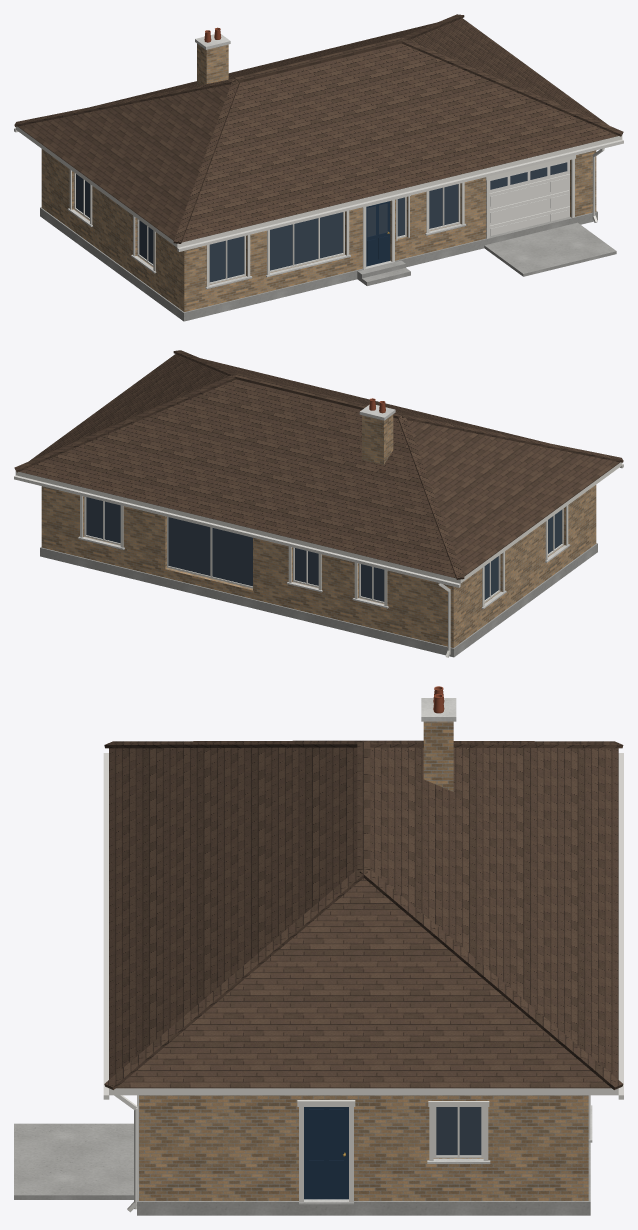
Rendered from bungalow.glb.
3 views of the same model, one above another, from view 1: azimuth 30°, elevation 25°; view 2: azimuth 150°, elevation 25°; view 3: azimuth 270°, elevation 25° (orthographic). The views are drawn at different scales.
Visible parts, largest first — view 1: Bungalow; view 2: Bungalow; view 3: Bungalow.
Part boxes in pixels (x1,y1,x2,y2): Bungalow: [14, 14, 623, 321]; Bungalow: [14, 350, 623, 657]; Bungalow: [14, 686, 623, 1215].
Size of the model in its own units: 16.39 by 6.64 by 12.2.
Materials: 13 (4 with a texture image).
